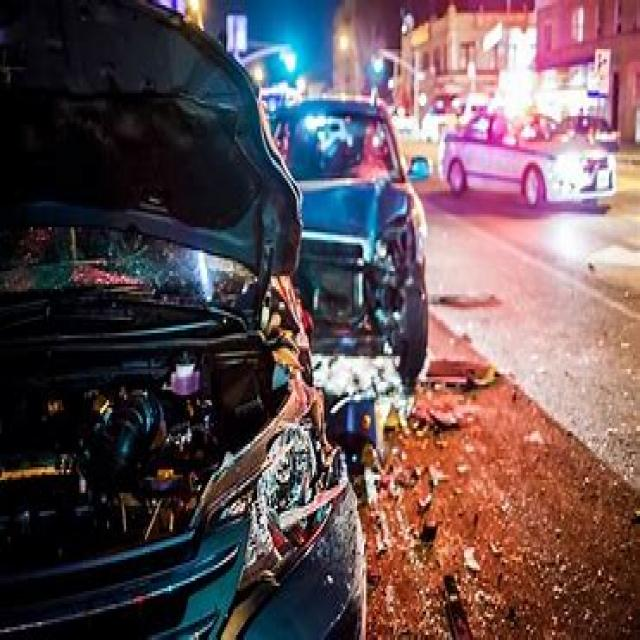Accident: (45, 72, 507, 622)
